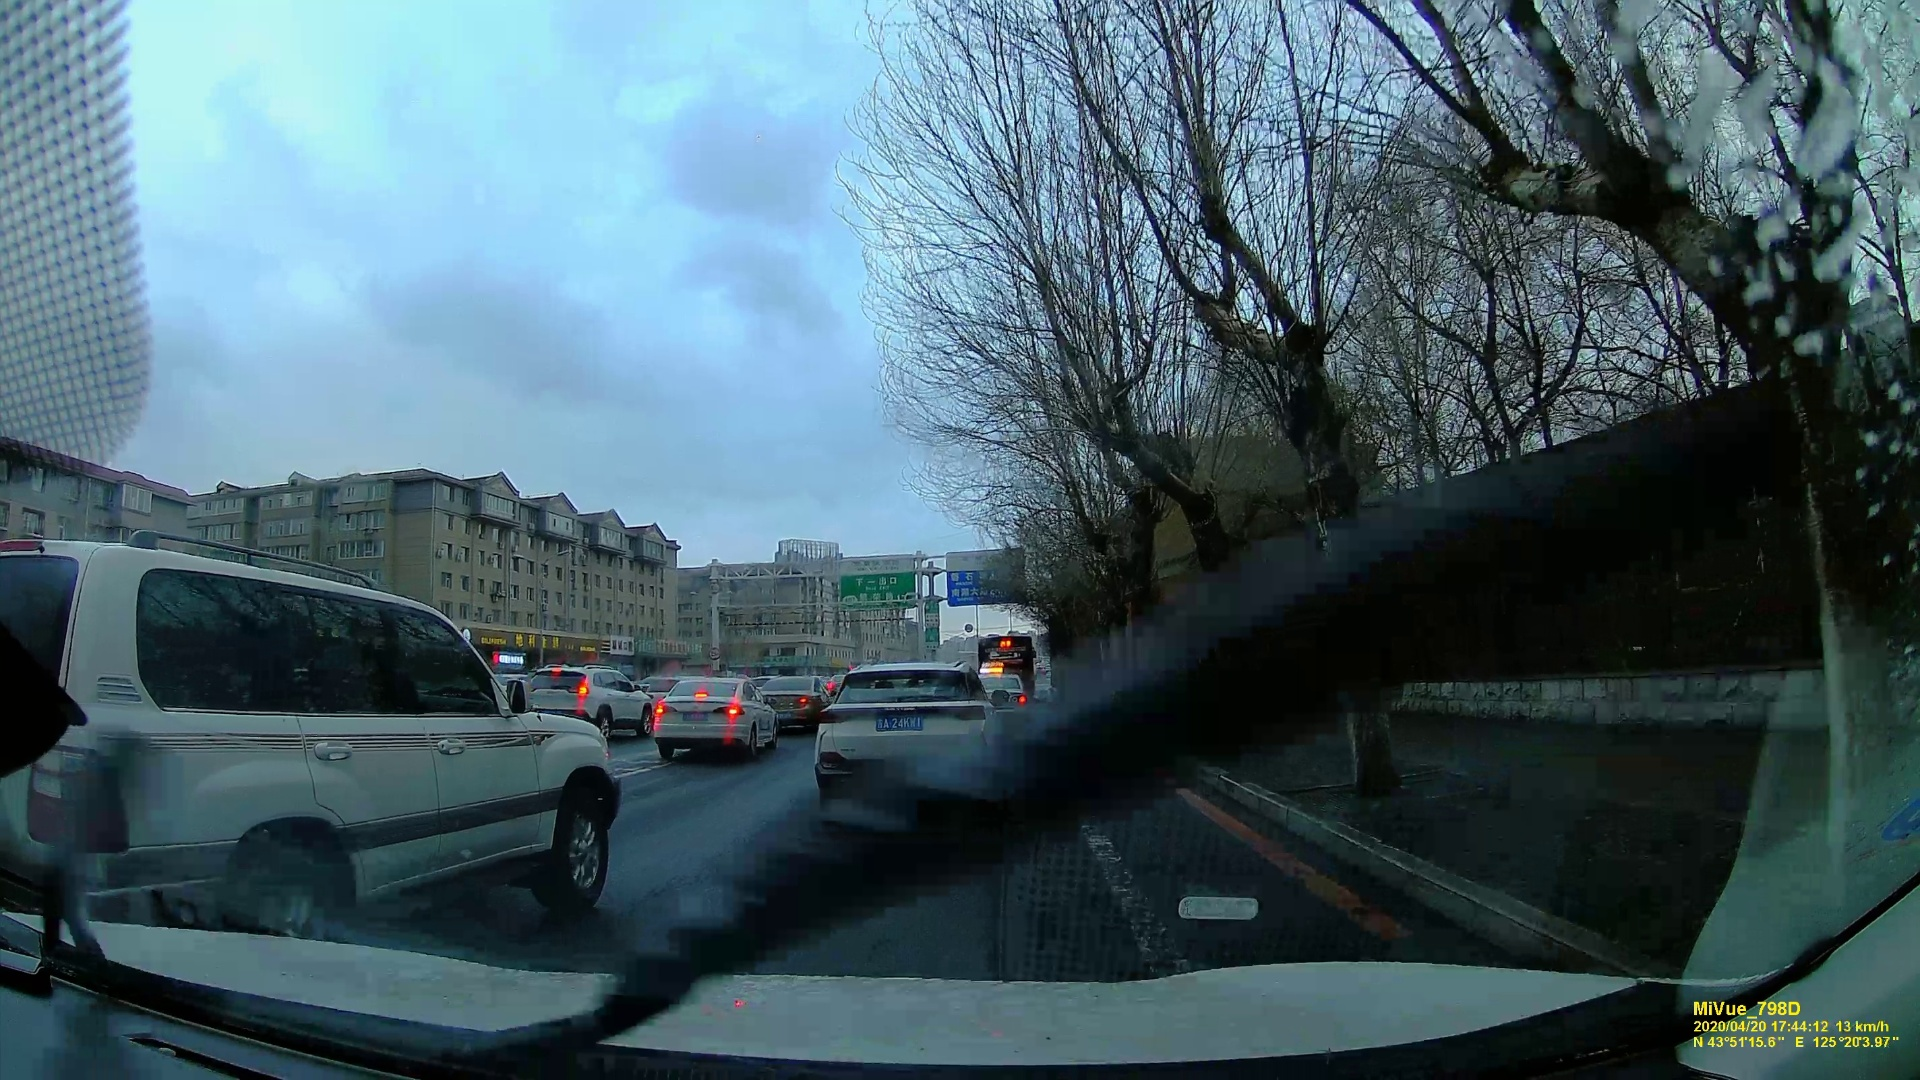bus: (981, 636, 1034, 691)
traffic_sign: (944, 550, 1027, 603), (836, 556, 916, 607)
vehicle: (8, 537, 626, 919), (811, 655, 1007, 796), (651, 673, 778, 758), (516, 665, 647, 740)
